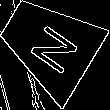N_NW: (19, 14, 78, 74)
